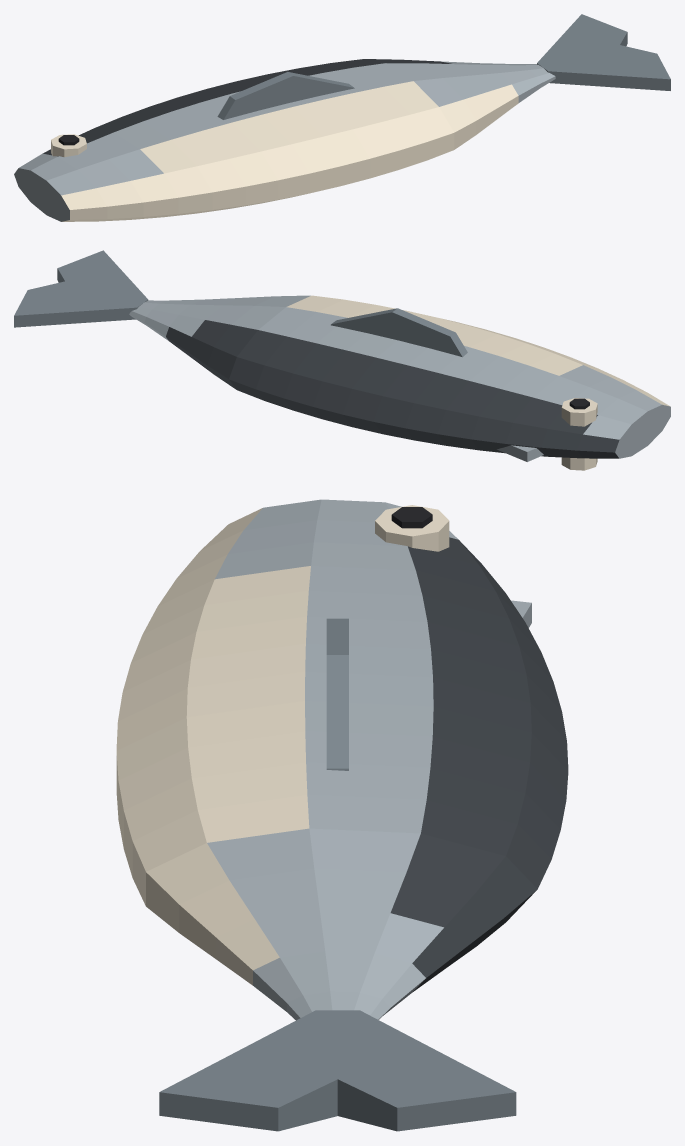
3 views of the same model, one above another, from view 1: azimuth 30°, elevation 25°; view 2: azimuth 150°, elevation 25°; view 3: azimuth 270°, elevation 25° (orthographic). The views are drawn at different scales.
Visible parts, largest first — view 1: mdvl_food_fish_01_0; view 2: mdvl_food_fish_01_0; view 3: mdvl_food_fish_01_0.
Boxes of the visible parts, x1,y1,x2,y2 form: mdvl_food_fish_01_0: (14,14,670,221); mdvl_food_fish_01_0: (14,250,670,470); mdvl_food_fish_01_0: (116,499,568,1131).
Bounding box in the file's own units: 0.3724 × 0.0568 × 0.1215.
1 material, 1 textured.
